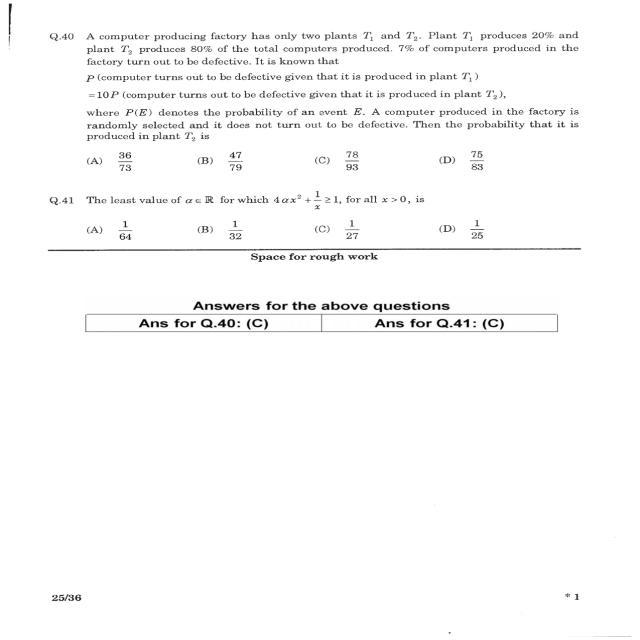Answer_Block: (29, 213, 598, 250)
Instruction: (56, 276, 572, 348), (29, 148, 598, 188)
Question_Answer_Block: (29, 21, 598, 188), (29, 190, 598, 250)
Question_Block: (29, 20, 598, 146), (29, 190, 598, 214)
Question_Paper_Area: (29, 20, 598, 378)
